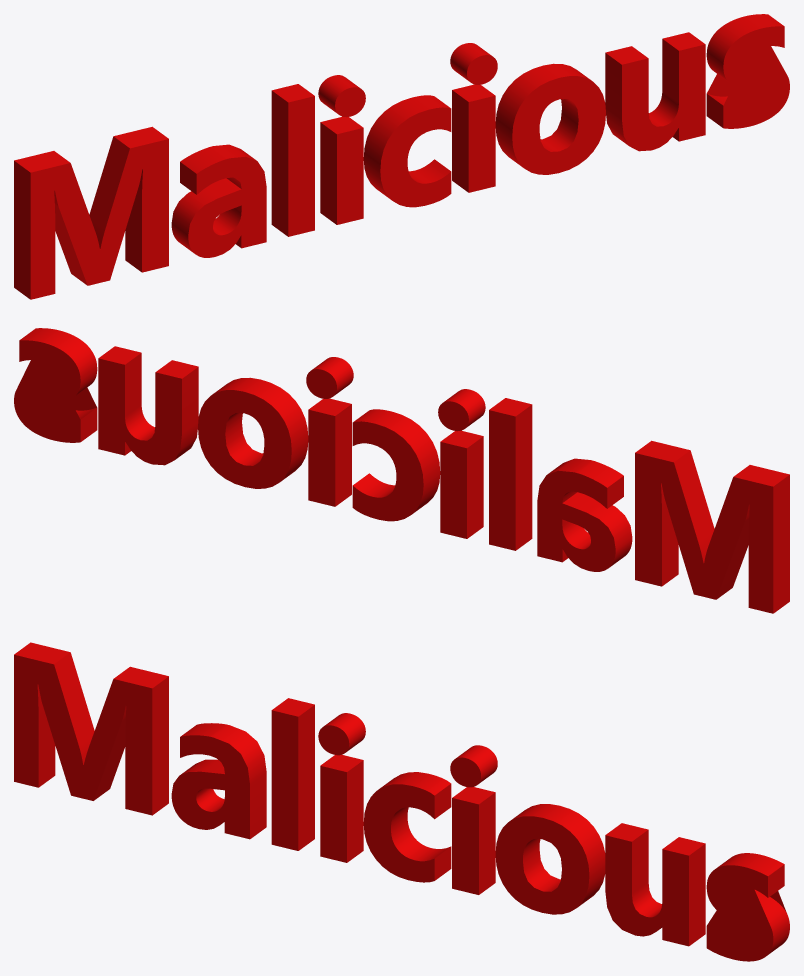
The model's file is MainMenuTitle.fbx.
3 views of the same model, one above another, from view 1: azimuth 30°, elevation 25°; view 2: azimuth 150°, elevation 25°; view 3: azimuth 330°, elevation 25° (orthographic).
Parts seen in each view (by area): view 1: MainMenuTitle; view 2: MainMenuTitle; view 3: MainMenuTitle.
Boxes of the visible parts, x1,y1,x2,y2 form: MainMenuTitle: (14, 14, 789, 299); MainMenuTitle: (14, 328, 789, 613); MainMenuTitle: (14, 642, 789, 961).
Bounding box in the file's own units: 0.1855 × 0.0319 × 0.00705.
